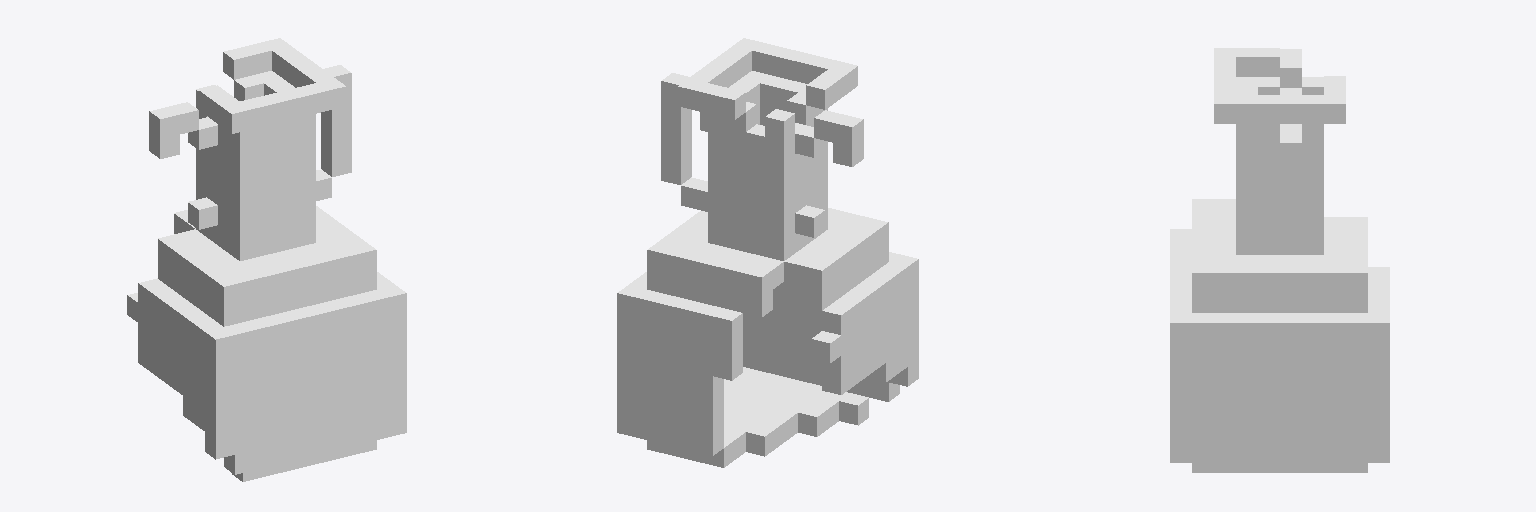
File: Vasija_4_Rota_Union.obj
3 views of the same model, side by side, from view 1: azimuth 30°, elevation 25°; view 2: azimuth 150°, elevation 25°; view 3: azimuth 270°, elevation 25° (orthographic).
Visible parts, largest first — view 1: object 1; view 2: object 1; view 3: object 1.
Boxes of the visible parts, x1=… form: object 1: x1=127, y1=38, x2=406, y2=481; object 1: x1=617, y1=38, x2=918, y2=467; object 1: x1=1170, y1=48, x2=1389, y2=472.
Bounding box in the file's own units: 1 × 1.8 × 1.